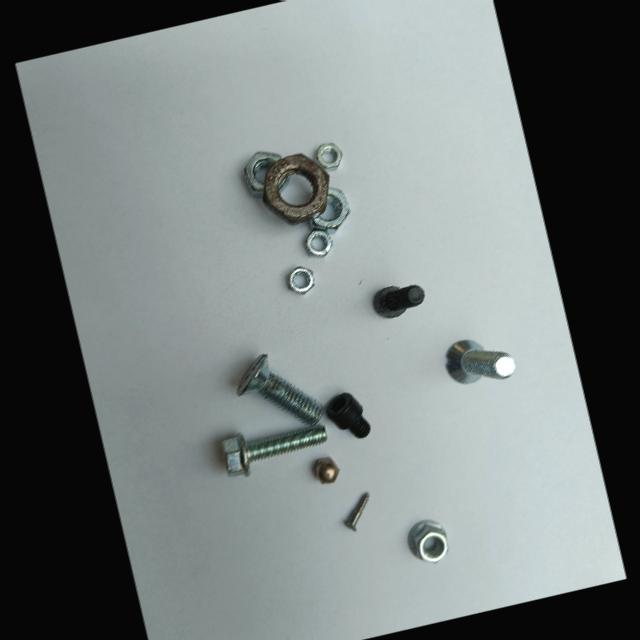bolt: (236, 353, 323, 426), (221, 422, 326, 475), (445, 339, 514, 383), (325, 392, 369, 437), (372, 284, 423, 316), (343, 491, 368, 531)
nuts: (262, 152, 328, 223), (242, 150, 282, 198), (307, 186, 349, 230), (407, 519, 447, 561), (304, 225, 332, 256), (314, 142, 342, 171), (287, 265, 314, 293), (311, 456, 338, 483)
